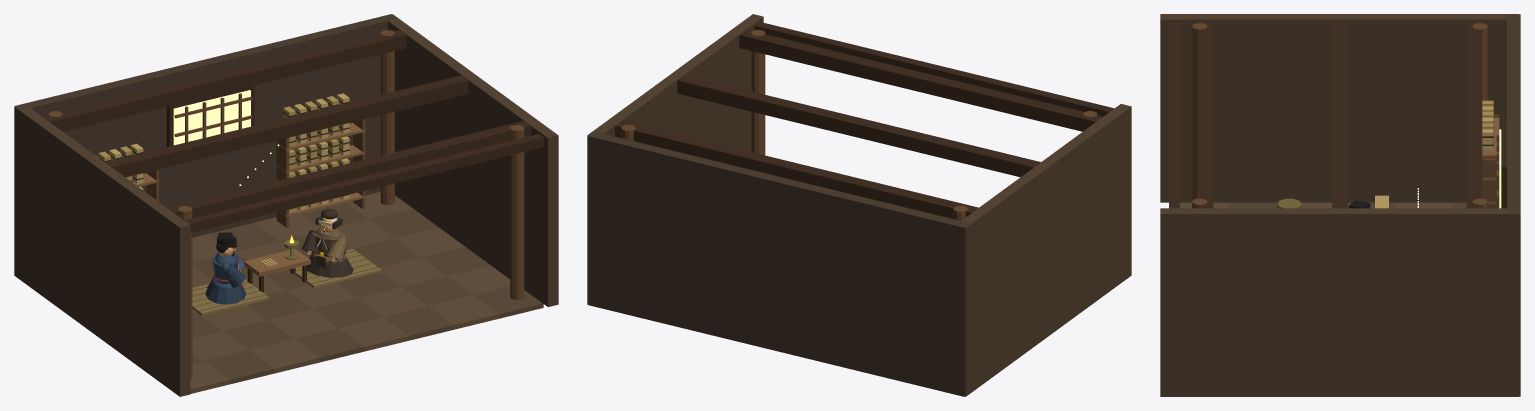
File: confucius_laozi_3d.glb
The picture shows the model from 3 angles, left to right: view 1: azimuth 30°, elevation 25°; view 2: azimuth 150°, elevation 25°; view 3: azimuth 270°, elevation 25°; orthographic projection. The views are drawn at different scales.
Parts seen in each view (by area): view 1: wall_left, wall_right, wall_back, beam_0, beam_2.4, beam_-2.4, beam_front, pillar_3.7_-2.5, window_glow, pillar_3.7_2.5, floor_-1_-3, floor_-2_-3 (+40 smaller); view 2: wall_back, wall_left, wall_right, beam_0, beam_-2.4, beam_2.4, beam_front, pillar_3.7_-2.5; view 3: wall_right, wall_left, wall_back, beam_-2.4, beam_2.4, beam_0, beam_front, pillar_-3.7_-2.5, shelf_side_r_-2.3, pillar_-3.7_2.5, window_frame, floor_-4_1 (+1 smaller).
Boxes of the visible parts, left/top/right/bottom form: wall_left: left=14, top=106, right=190, bottom=396; wall_right: left=385, top=14, right=558, bottom=306; wall_back: left=15, top=14, right=397, bottom=237; beam_0: left=105, top=75, right=468, bottom=177; beam_2.4: left=43, top=30, right=406, bottom=131; beam_-2.4: left=167, top=121, right=530, bottom=218; beam_front: left=184, top=134, right=543, bottom=232; pillar_3.7_-2.5: left=510, top=125, right=524, bottom=299; window_glow: left=173, top=90, right=250, bottom=145; pillar_3.7_2.5: left=380, top=30, right=394, bottom=205; floor_-1_-3: left=294, top=328, right=364, bottom=362; floor_-2_-3: left=249, top=339, right=319, bottom=373; wall_back: left=587, top=131, right=970, bottom=396; wall_left: left=957, top=104, right=1131, bottom=396; wall_right: left=587, top=14, right=763, bottom=303; beam_0: left=677, top=75, right=1040, bottom=177; beam_-2.4: left=739, top=29, right=1102, bottom=131; beam_2.4: left=615, top=120, right=978, bottom=218; beam_front: left=754, top=22, right=1114, bottom=116; pillar_3.7_-2.5: left=751, top=30, right=765, bottom=155; wall_right: left=1160, top=208, right=1519, bottom=396; wall_left: left=1160, top=14, right=1519, bottom=202; wall_back: left=1507, top=14, right=1520, bottom=396; beam_-2.4: left=1197, top=20, right=1213, bottom=208; beam_2.4: left=1466, top=20, right=1482, bottom=208; beam_0: left=1332, top=20, right=1347, bottom=208; beam_front: left=1169, top=22, right=1179, bottom=208; pillar_-3.7_-2.5: left=1192, top=23, right=1207, bottom=200; shelf_side_r_-2.3: left=1482, top=155, right=1496, bottom=208; pillar_-3.7_2.5: left=1472, top=23, right=1487, bottom=100; window_frame: left=1501, top=122, right=1506, bottom=208; floor_-4_1: left=1396, top=202, right=1451, bottom=208.
Size of the model in its own units: 8.44 by 3.7 by 6.42.
